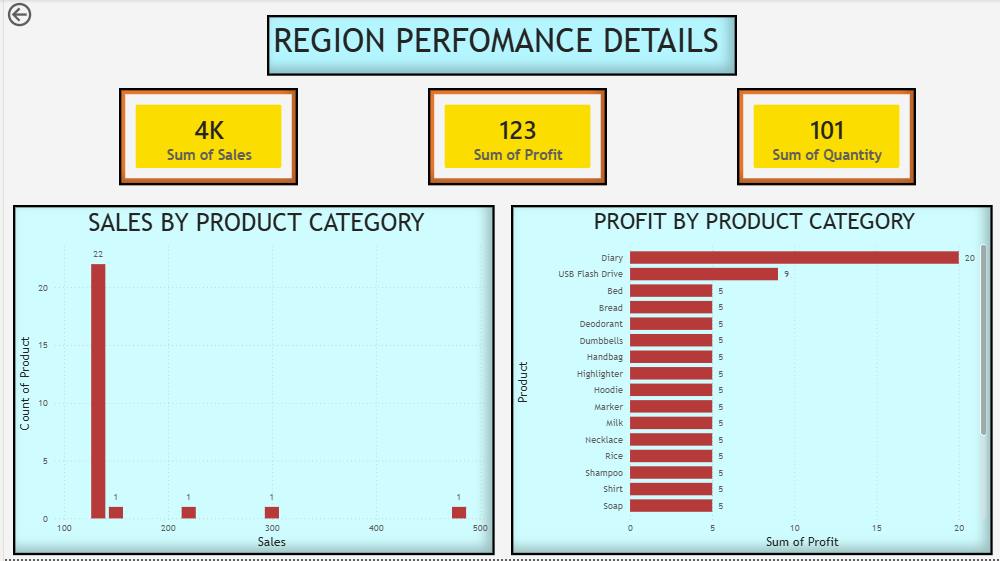

This screenshot's page, from the dashboard's own definition file:
{"tool":"powerbi","page":{"name":"REGION DETAILS","canvas":[1280,720],"ordinal":1},"visuals":[{"type":"actionButton","box":[0,0,100,40],"z":0},{"type":"cardVisual","fields":{"Data":["Sum(Practice.Sales)"]},"box":[147.8,114.4,230,124.7],"z":1000},{"type":"cardVisual","fields":{"Data":["Sum(Practice.Quantity)"]},"box":[942,114.4,230,124.7],"z":2000},{"type":"cardVisual","fields":{"Data":["Sum(Practice.Profit)"]},"box":[544.9,114.4,230,124.7],"z":3000},{"type":"textbox","box":[338,20.6,604,78.4],"z":4000},{"type":"clusteredColumnChart","title":"SALES BY PRODUCT CATEGORY","fields":{"Category":["Practice.Sales"],"Y":["CountNonNull(Practice.Product)"]},"box":[11.6,264.7,619.4,449.8],"z":5000},{"type":"clusteredBarChart","title":"PROFIT BY PRODUCT CATEGORY","fields":{"Category":["Practice.Product"],"Y":["Sum(Practice.Profit)"]},"box":[651.6,264.7,619.4,449.8],"z":6000}]}

Visuals, with their boxes in screenshot pixels (x1, y1, x2, y2):
actionButton: 8,3,84,33
cardVisual - Sum(Practice.Sales): 121,90,298,186
cardVisual - Sum(Practice.Quantity): 730,90,907,186
cardVisual - Sum(Practice.Profit): 426,90,602,186
textbox: 267,18,730,79
"SALES BY PRODUCT CATEGORY" clusteredColumnChart: 17,206,492,551
"PROFIT BY PRODUCT CATEGORY" clusteredBarChart: 508,206,983,551
